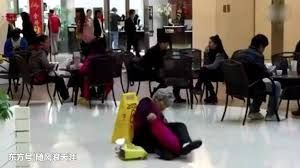10+: (1, 3, 299, 160)
down: (124, 83, 210, 161)
